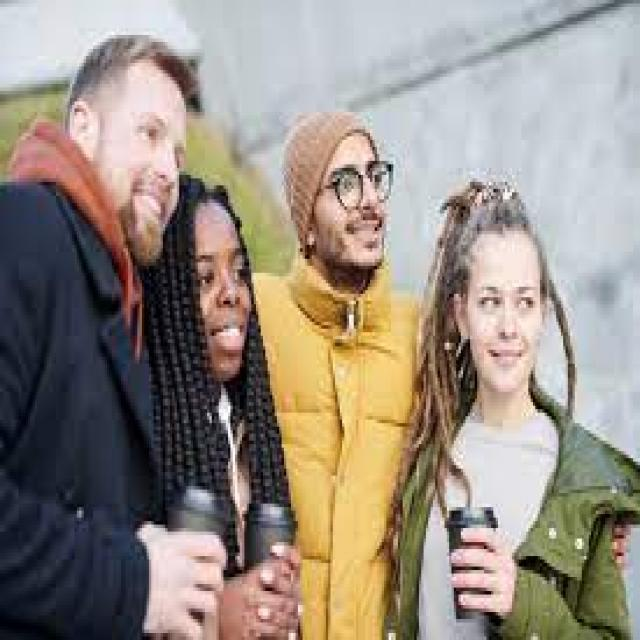Jacket: (0, 168, 182, 640), (233, 249, 440, 640), (400, 356, 637, 640)
